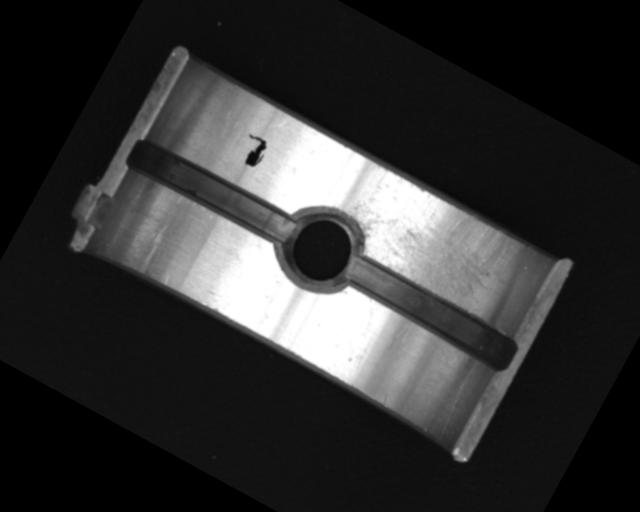blot: (235, 130, 272, 171)
gap: (339, 250, 523, 374), (124, 133, 298, 250)
hole: (267, 193, 375, 300)
nick: (137, 221, 171, 272)
scratch: (328, 160, 528, 322)
